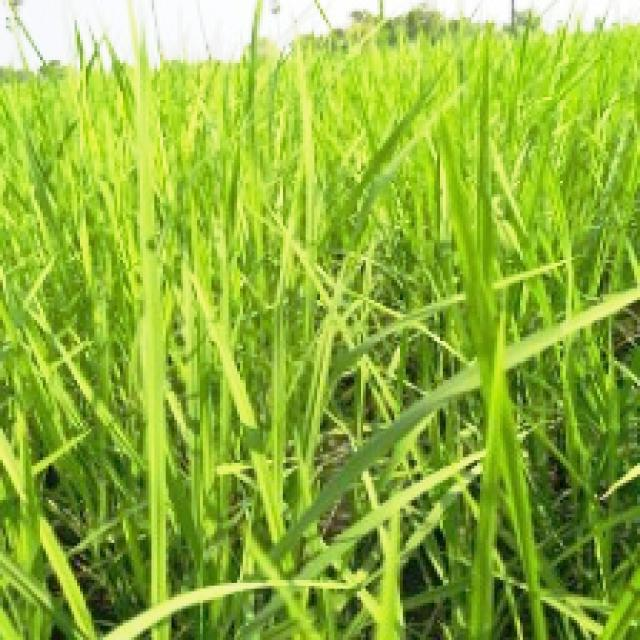health: (0, 62, 611, 571)
